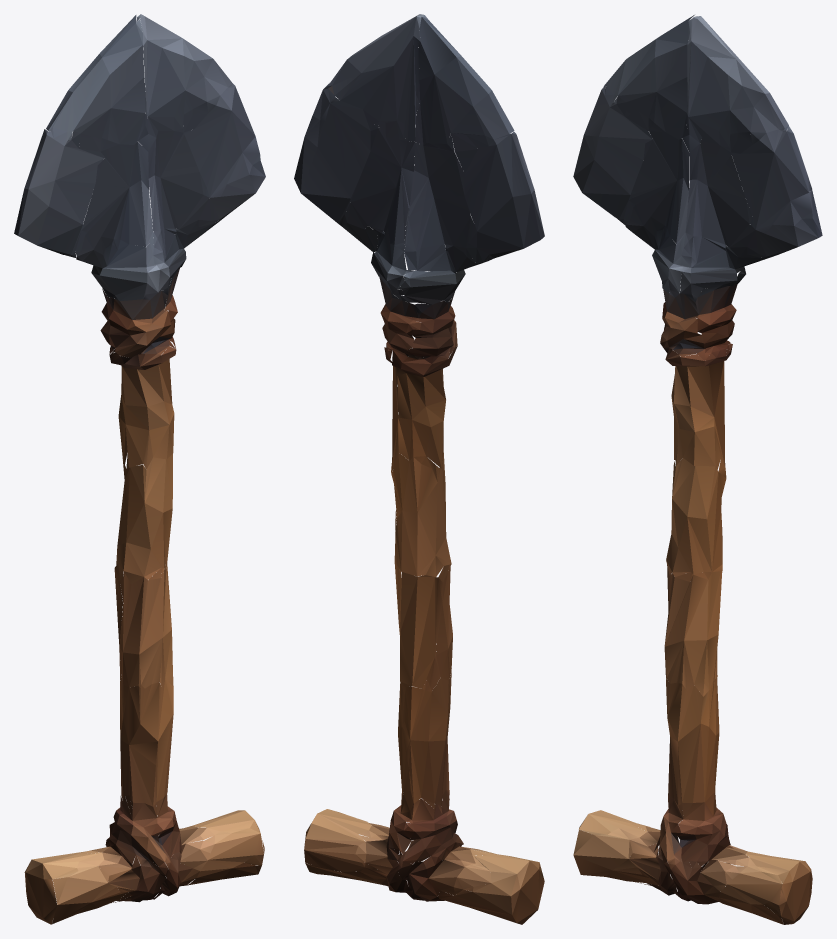
File: ironShovel.glb
The picture shows the model from 3 angles, left to right: view 1: azimuth 30°, elevation 25°; view 2: azimuth 150°, elevation 25°; view 3: azimuth 330°, elevation 25°; orthographic projection.
Visible parts, largest first — view 1: 0_ironShovel; view 2: 0_ironShovel; view 3: 0_ironShovel.
Boxes of the visible parts, x1,y1,x2,y2 form: 0_ironShovel: (14,14,265,924); 0_ironShovel: (294,14,544,924); 0_ironShovel: (573,15,822,924).
Size of the model in its own units: 0.288 by 0.9805 by 0.0975.
